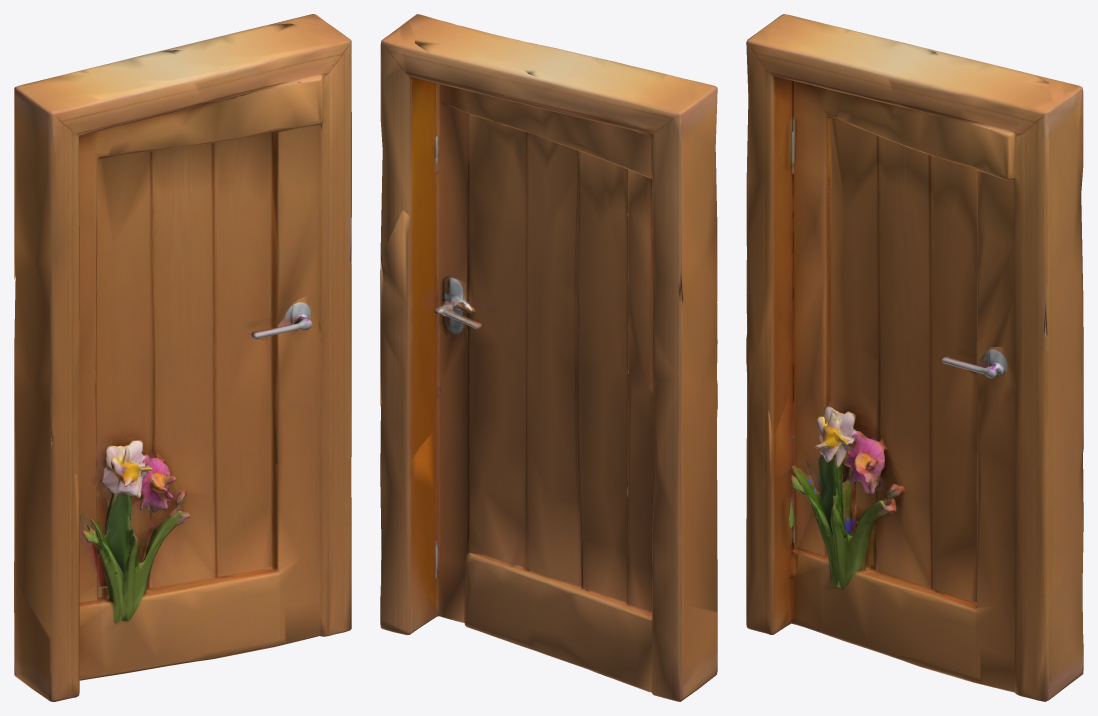
The model's file is Door.glb.
The picture shows the model from 3 angles, left to right: view 1: azimuth 30°, elevation 25°; view 2: azimuth 150°, elevation 25°; view 3: azimuth 330°, elevation 25°; orthographic projection.
Size of the model in its own units: 1.07 by 2 by 0.2751.
Materials: 1 (1 with a texture image).
